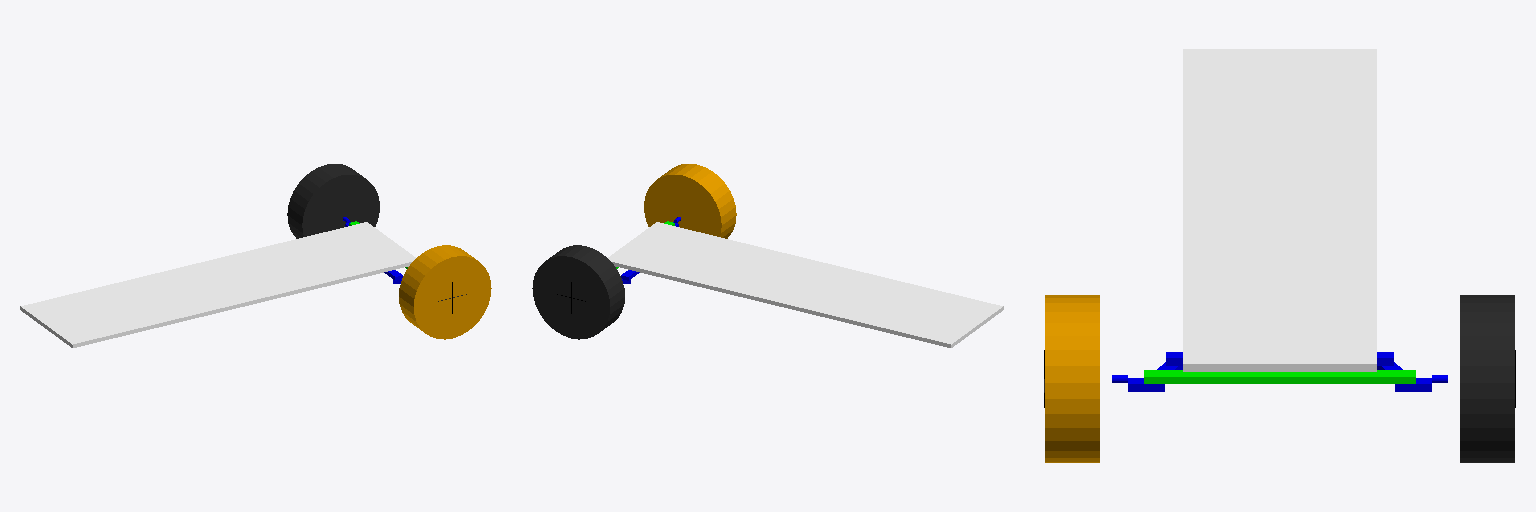
robot.urdf — prius_1:
<?xml version="1.0" ?>
<robot name="prius_1">
  <link name="chassis_floor">
    <inertial>
      <mass value="57.833"/>
      <origin rpy="0 0 0" xyz="0 0 0.38518"/>
      <inertia ixx="2.71553" ixy="0" ixz="0" iyy="68.9" iyz="0" izz="71.6063"/>
    </inertial>
    <visual name="v1">
      <origin rpy="0 0 0" xyz="0 0 0.38518"/>
      <geometry>
        <box size="2.8808 0.75 0.030921"/>
      </geometry>
      <material name="white">
        <color rgba="1 1 1 1" />
      </material>
    </visual>
  </link>
  <link name="front_axle">
    <inertial>
      <mass value="0"/>
      <origin rpy="0  0  0" xyz="0  0  0"/>
      <inertia ixx="0" ixy="0" ixz="0" iyy="0" iyz="0" izz="0"/>
    </inertial>
    <visual name="v1">
      <origin rpy="0  0  0" xyz="0  0  0"/>
      <geometry>
        <box size="0.061842 1.05132 0.030921"/>
      </geometry>
      <material name="green">
        <color rgba="0 1 0 1" />
      </material>
    </visual>
  </link>
  <link name="left_tie_rod_arm">
    <inertial>
      <mass value="0"/>
      <origin rpy="0  0  0" xyz="-0.17246 -0.08623  0"/>
      <inertia ixx="0" ixy="0" ixz="0" iyy="0" iyz="0" izz="0"/>
    </inertial>
    <visual name="__v2">
      <origin rpy="0       0       0.46364" xyz="-0.1086 -0.0543  0"/>
      <geometry>
        <box size="0.204637 0.061842 0.030921"/>
      </geometry>
      <material name="blue">
        <color rgba="0 0 1 1" />
      </material>
    </visual>
    <visual name="__v1">
      <origin rpy="0  0  0" xyz="0       0.02228  0"/>
      <geometry>
        <box size="0.061842 0.140955 0.030921"/>
      </geometry>
      <material name="blue">
        <color rgba="0 0 1 1" />
      </material>
    </visual>
  </link>
  <link name="left_hub">
    <inertial>
      <mass value="0"/>
      <origin rpy="0  0  0" xyz="0  0  0"/>
      <inertia ixx="0" ixy="0" ixz="0" iyy="0" iyz="0" izz="0"/>
    </inertial>
    <visual name="__visual">
      <origin rpy="0  0  0" xyz="0  0  0"/>
      <geometry>
        <cylinder length="0.0618421" radius="0.0154605"/>
      </geometry>
      <material name="blue">
        <color rgba="0 0 1 1" />
      </material>
    </visual>
  </link>
  <link name="tie_rod">
    <inertial>
      <mass value="0"/>
      <origin rpy="0  0  0" xyz="0     -0.4085  0"/>
      <inertia ixx="0" ixy="0" ixz="0" iyy="0" iyz="0" izz="0"/>
    </inertial>
    <visual name="__visual">
      <origin rpy="0  0  0" xyz="0     -0.4085  0"/>
      <geometry>
        <box size="0.061842 0.878847 0.030921"/>
      </geometry>
      <material name="blue">
        <color rgba="0 0 1 1" />
      </material>
    </visual>
  </link>
  <link name="left_wheel">
    <inertial>
      <mass value="14.28"/>
      <origin rpy="0  0  0" xyz="0  0  0"/>
      <inertia ixx="0.499912" ixy="0" ixz="0" iyy="0.778439" iyz="0" izz="0.499912"/>
    </inertial>
    <collision name="c1">
      <origin rpy="0 0 0" xyz="0 0 0"/>
      <geometry>
        <cylinder length="0.215" radius="0.323342"/>
      </geometry>
      <material name="black">
        <color rgba="0 0 0 1" />
      </material>
    </collision>
    <visual name="wheel">
      <origin rpy="0  0  0" xyz="0  0  0"/>
      <geometry>
        <cylinder length="0.215" radius="0.323342"/>
      </geometry>
      <material name="gray">
        <color rgba="0.2 0.2 0.2 1" />
      </material>
    </visual>
    <visual name="line1">
      <origin rpy="0       1.57079  3.14159" xyz="0      0     -0.1075"/>
      <geometry>
        <box size="0.0025 0.0025 0.25"/>
      </geometry>
      <material name="black">
        <color rgba="0 0 0 1" />
      </material>
    </visual>
    <visual name="line2">
      <origin rpy="3.14159  1.57079 -1.57079" xyz="0      0     -0.1075"/>
      <geometry>
        <box size="0.0025 0.0025 0.25"/>
      </geometry>
      <material name="black">
        <color rgba="0 0 0 1" />
      </material>
    </visual>
  </link>
  <link name="right_tie_rod_arm">
    <inertial>
      <mass value="0"/>
      <origin rpy="0  0  0" xyz="-0.17246  0.08623  0"/>
      <inertia ixx="0" ixy="0" ixz="0" iyy="0" iyz="0" izz="0"/>
    </inertial>
    <visual name="__v1">
      <origin rpy="0  0  0" xyz="0      -0.02228  0"/>
      <geometry>
        <box size="0.061842 0.140955 0.030921"/>
      </geometry>
      <material name="blue">
        <color rgba="0 0 1 1" />
      </material>
    </visual>
    <visual name="__v2">
      <origin rpy="0       0      -0.46364" xyz="-0.1086  0.0543  0"/>
      <geometry>
        <box size="0.204637 0.061842 0.030921"/>
      </geometry>
      <material name="blue">
        <color rgba="0 0 1 1" />
      </material>
    </visual>
  </link>
  <link name="right_hub">
    <inertial>
      <mass value="0"/>
      <origin rpy="0  0  0" xyz="0  0  0"/>
      <inertia ixx="0" ixy="0" ixz="0" iyy="0" iyz="0" izz="0"/>
    </inertial>
    <visual name="__visual">
      <origin rpy="0  0  0" xyz="0  0  0"/>
      <geometry>
        <cylinder length="0.0618421" radius="0.0154605"/>
      </geometry>
      <material name="blue">
        <color rgba="0 0 1 1" />
      </material>
    </visual>
  </link>
  <link name="right_wheel">
    <inertial>
      <mass value="14.28"/>
      <origin rpy="0  0  0" xyz="0  0  0"/>
      <inertia ixx="0.499912" ixy="0" ixz="0" iyy="0.778439" iyz="0" izz="0.499912"/>
    </inertial>
    <collision name="c1">
      <origin rpy="0  0  0" xyz="0  0  0"/>
      <geometry>
        <cylinder length="0.215" radius="0.323342"/>
      </geometry>
      <material name="gray">
        <color rgba="0.2 0.2 0.2 1" />
      </material>
    </collision>
    <visual name="v1">
      <origin rpy="0       1.57079  3.14159" xyz="0      0      0.1075"/>
      <geometry>
        <box size="0.0025 0.0025 0.25"/>
      </geometry>
      <material name="gray">
        <color rgba="0.2 0.2 0.2 1" />
      </material>
    </visual>
    <visual name="v2">
      <origin rpy="0  0  0" xyz="0  0  0"/>
      <geometry>
        <cylinder length="0.215" radius="0.323342"/>
      </geometry>
    </visual>
    <visual name="v3">
      <origin rpy="3.14159  1.57079 -1.57079" xyz="0      0      0.1075"/>
      <geometry>
        <box size="0.0025 0.0025 0.25"/>
      </geometry>
      <material name="black">
        <color rgba="0 0 0 1" />
      </material>
    </visual>
  </link>
  <!-- <link name="left_wheel_rear">
    <inertial>
      <mass value="14.28"/>
      <origin rpy="0  0  0" xyz="0  0  0"/>
      <inertia ixx="0.499912" ixy="0" ixz="0" iyy="0.778439" iyz="0" izz="0.499912"/>
    </inertial>
    <collision name="__wheel">
      <origin rpy="0  0  0" xyz="0  0  0"/>
      <geometry>
        <cylinder length="0.215" radius="0.323342"/>
      </geometry>
    </collision>
    <visual name="__m2">
      <origin rpy="0       1.57079  3.14159" xyz="0      0     -0.1075"/>
      <geometry>
        <box size="0.0025 0.0025 0.25"/>
      </geometry>
    </visual>
    <visual name="__m1">
      <origin rpy="3.14159  1.57079 -1.57079" xyz="0      0     -0.1075"/>
      <geometry>
        <box size="0.0025 0.0025 0.25"/>
      </geometry>
    </visual>
    <visual name="__wheel">
      <origin rpy="0  0  0" xyz="0  0  0"/>
      <geometry>
        <cylinder length="0.215" radius="0.323342"/>
      </geometry>
    </visual>
  </link>
  <link name="right_wheel_rear">
    <inertial>
      <mass value="14.28"/>
      <origin rpy="0  0  0" xyz="0  0  0"/>
      <inertia ixx="0.499912" ixy="0" ixz="0" iyy="0.778439" iyz="0" izz="0.499912"/>
    </inertial>
    <collision name="__wheel">
      <origin rpy="0  0  0" xyz="0  0  0"/>
      <geometry>
        <cylinder length="0.215" radius="0.323342"/>
      </geometry>
    </collision>
    <visual name="__m2">
      <origin rpy="0       1.57079  3.14159" xyz="0      0      0.1075"/>
      <geometry>
        <box size="0.0025 0.0025 0.25"/>
      </geometry>
    </visual>
    <visual name="__wheel">
      <origin rpy="0  0  0" xyz="0  0  0"/>
      <geometry>
        <cylinder length="0.215" radius="0.323342"/>
      </geometry>
    </visual>
    <visual name="__m1">
      <origin rpy="3.14159  1.57079 -1.57079" xyz="0      0      0.1075"/>
      <geometry>
        <box size="0.0025 0.0025 0.25"/>
      </geometry>
    </visual>
  </link>
  <link name="rear_axle">
    <inertial>
      <mass value="0"/>
      <origin rpy="0  0  0" xyz="0  0  0"/>
      <inertia ixx="0" ixy="0" ixz="0" iyy="0" iyz="0" izz="0"/>
    </inertial>
    <visual name="__visual">
      <origin rpy="0  0  0" xyz="0  0  0"/>
      <geometry>
        <box size="0.061842 1.38898 0.030921"/>
      </geometry>
    </visual>
  </link>
  <link name="body">
    <inertial>
      <mass value="5.42794"/>
      <origin rpy="0  0  0" xyz="-2.27    -0.91139 -0.21858"/>
      <inertia ixx="0.00216238" ixy="0" ixz="0" iyy="0.500375" iyz="0" izz="0.501672"/>
    </inertial>
    <visual name="__visual">
      <origin rpy="0  0  0" xyz="-2.27    -0.91139 -0.21858"/>
      <geometry>
        <mesh filename="/prius.dae" scale="1.0 1.0 1.0"/>
      </geometry>
    </visual>
  </link>
  <link name="lidar">
    <inertial>
      <mass value="0"/>
      <origin rpy="0  0  0" xyz="0  0  0"/>
      <inertia ixx="0" ixy="0" ixz="0" iyy="0" iyz="0" izz="0"/>
    </inertial>
    <visual name="__lidar">
      <origin rpy="0  0  0" xyz="0  0  0"/>
      <geometry>
        <box size="0.1 0.15 0.2"/>
      </geometry>
    </visual>
  </link> -->
  <joint name="chassis_floor_axle" type="fixed">
    <parent link="chassis_floor"/>
    <child link="front_axle"/>
    <origin rpy="0  0  0" xyz="1.40948  0       0.3302"/>
    <axis xyz="0  0  0"/>
    <limit effort="0" lower="0" upper="0" velocity="0"/>
  </joint>
  <joint name="steering" type="revolute">
    <parent link="front_axle"/>
    <child link="left_tie_rod_arm"/>
    <origin rpy="0  0  0" xyz="0       0.49473 -0.03092"/>
    <axis xyz="0  0  1"/>
    <limit effort="0.0" lower="-0.401426" upper="0.5" velocity="0.0"/>
  </joint>
  <joint name="left_hub" type="fixed">
    <parent link="left_tie_rod_arm"/>
    <child link="left_hub"/>
    <origin rpy="1.5708  0      0" xyz="0       0.12368  0.02406"/>
    <axis xyz="0  0  0"/>
    <limit effort="0" lower="0" upper="0" velocity="0"/>
  </joint>
  <joint name="left_pin" type="revolute">
    <parent link="left_tie_rod_arm"/>
    <child link="tie_rod"/>
    <origin rpy="0  0  0" xyz="-0.17246 -0.08623  0.03092"/>
    <axis xyz="0  0  1"/>
    <limit effort="0" lower="-1.5" upper="1.5" velocity="0"/>
  </joint>
  <joint name="left_wheel_joint" type="revolute">
    <parent link="left_hub"/>
    <child link="left_wheel"/>
    <origin rpy="0  0  0" xyz="0       0      -0.18357"/>
    <axis xyz="0  0 -1"/>
    <limit effort="0" lower="0" upper="0" velocity="0"/>
  </joint>
  <joint name="axle_tie_rod_arm" type="revolute">
    <parent link="front_axle"/>
    <child link="right_tie_rod_arm"/>
    <origin rpy="0  0  0" xyz="0      -0.49473 -0.03092"/>
    <axis xyz="0  0  1"/>
    <limit effort="0.0" lower="-0.401426" upper="0.5" velocity="0.0"/>
  </joint>
  <joint name="right_hub" type="fixed">
    <parent link="right_tie_rod_arm"/>
    <child link="right_hub"/>
    <origin rpy="1.5708  0      0" xyz="0      -0.12368  0.02406"/>
    <axis xyz="0  0  0"/>
    <limit effort="0" lower="0" upper="0" velocity="0"/>
  </joint>
  <joint name="right_wheel_joint" type="revolute">
    <parent link="right_hub"/>
    <child link="right_wheel"/>
    <origin rpy="0  0  0" xyz="0       0       0.18357"/>
    <axis xyz="0  0 -1"/>
    <limit effort="0" lower="0" upper="0" velocity="0"/>
  </joint>
  <!-- <joint name="chassis_rear_axle" type="fixed">
    <parent link="chassis_floor"/>
    <child link="rear_axle"/>
    <origin rpy="0  0  0" xyz="-1.40948  0       0.32334"/>
    <axis xyz="0  0  0"/>
    <limit effort="0" lower="0" upper="0" velocity="0"/>
  </joint>
  <joint name="rear_left_wheel_joint" type="revolute">
    <parent link="rear_axle"/>
    <child link="left_wheel_rear"/>
    <origin rpy="1.5708  0      0" xyz="0       0.80199  0"/>
    <axis xyz="0  0 -1"/>
    <limit effort="0" lower="0" upper="0" velocity="0"/>
  </joint>
  <joint name="rear_right_wheel_joint" type="revolute">
    <parent link="rear_axle"/>
    <child link="right_wheel_rear"/>
    <origin rpy="1.5708  0      0" xyz="0      -0.80199  0"/>
    <axis xyz="0  0 -1"/>
    <limit effort="0" lower="0" upper="0" velocity="0"/>
  </joint>
  <joint name="body" type="fixed">
    <parent link="chassis_floor"/>
    <child link="body"/>
    <origin rpy="0  0  0" xyz="0       0       0.38518"/>
    <axis xyz="0  0  0"/>
    <limit effort="0" lower="0" upper="0" velocity="0"/>
  </joint>
  <joint name="lidar_joint" type="fixed">
    <parent link="chassis_floor"/>
    <child link="lidar"/>
    <origin rpy="0  0  0" xyz="2.4   0    0.52"/>
    <axis xyz="0  0  0"/>
    <limit effort="0" lower="0" upper="0" velocity="0"/>
  </joint> -->
</robot>

--- What the picture shows (computed from the rendered views, not written in the file) ---
3 views of the same robot in one strip: view 1: azimuth 30°, elevation 25°; view 2: azimuth 150°, elevation 25°; view 3: azimuth 270°, elevation 25° (orthographic).
Model prius_1 with 9 links and 8 joints (5 revolute, 3 fixed), rooted at chassis_floor, posed every joint at zero.
Visible links, largest first — view 1: chassis_floor, right_wheel, left_wheel; view 2: chassis_floor, left_wheel, right_wheel; view 3: chassis_floor, left_wheel, right_wheel, front_axle.
Link boxes in pixels (<box>): chassis_floor: <box>20,222,415,347</box>; right_wheel: <box>399,245,491,339</box>; left_wheel: <box>287,164,379,238</box>; chassis_floor: <box>608,222,1003,347</box>; left_wheel: <box>532,245,624,339</box>; right_wheel: <box>644,164,736,238</box>; chassis_floor: <box>1183,49,1376,371</box>; left_wheel: <box>1460,295,1515,462</box>; right_wheel: <box>1044,295,1099,462</box>; front_axle: <box>1144,370,1415,383</box>.
Bounding box of the posed robot: 3.17 × 1.82 × 0.6467 m (x, y, z).
Geometry: primitives only (box / cylinder / sphere), no mesh files.
